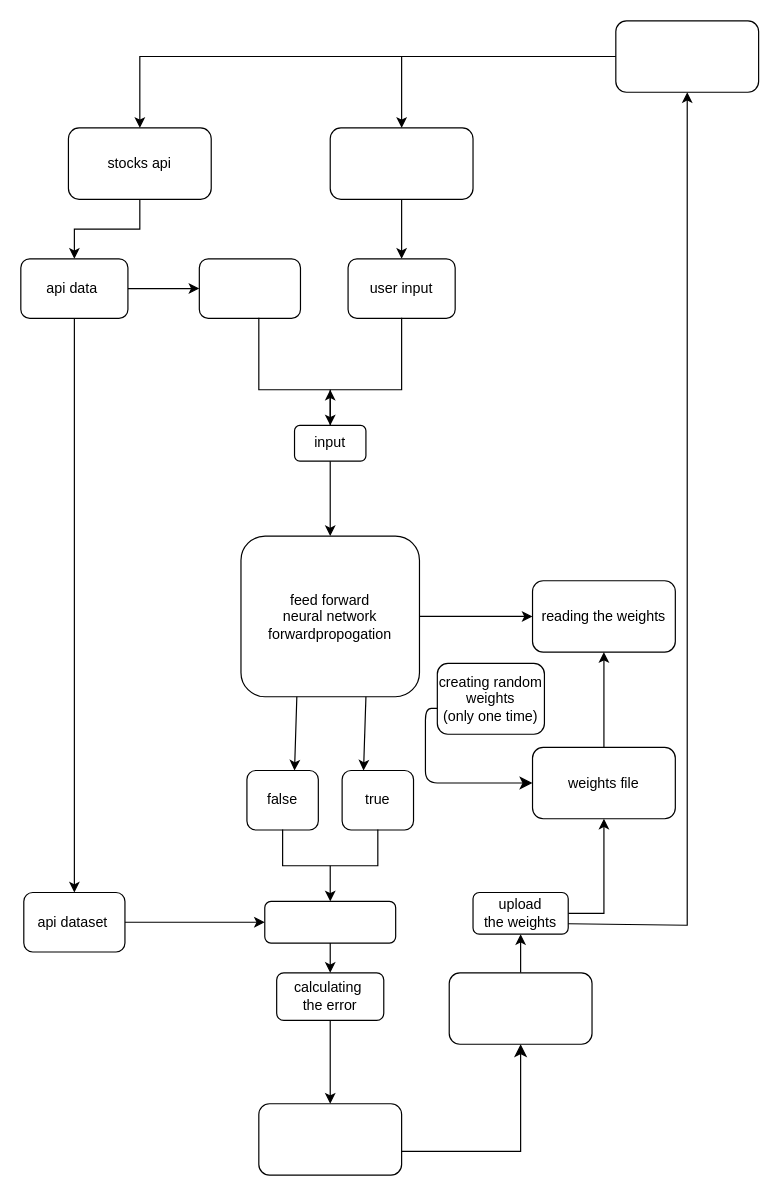
Some shapes in this 779 by 1196 pixel diagram are drawn without their labels. The centre of each missing label's shape, as x and y in pixels:
api input: point 249,288
backpropogation (gradient descent): point 330,1139
compare to API dataset: point 330,921
redo: point 687,56
updating the weights: point 520,1008
user: point 401,163
